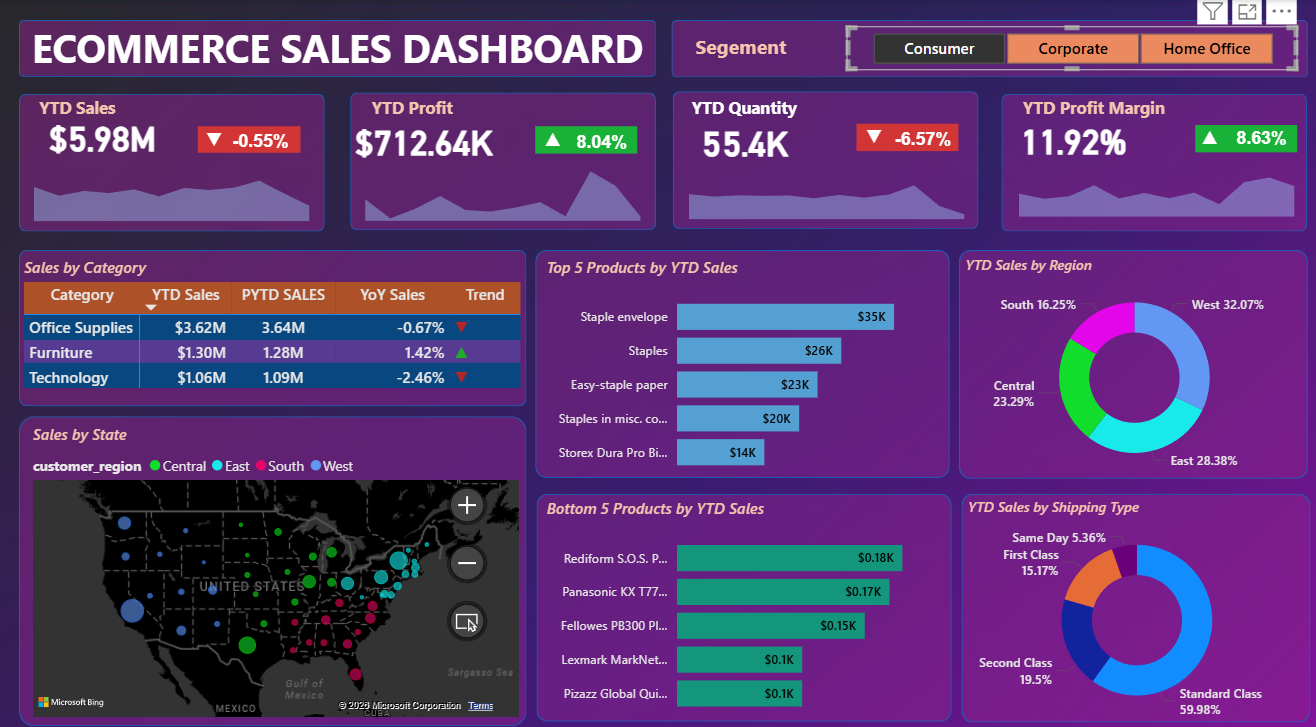

What the dashboard file says about the page in this screenshot:
{"tool":"powerbi","page":{"name":"Page 1","canvas":[1280,720],"ordinal":0},"visuals":[{"type":"shape","box":[24.7,19.2,614.8,54.9],"z":0},{"type":"textbox","box":[24.7,15.1,614.8,64.5],"z":1000},{"type":"shape","box":[24.7,90.6,295,133],"z":2000},{"type":"card","fields":{"Values":["ecommerce_data.YTD SALES"]},"box":[35.7,105.7,137.2,52.1],"z":3000},{"type":"areaChart","fields":{"Category":["Calendar.Month"],"Y":["Sum(ecommerce_data.sales_per_order)"]},"box":[24.7,156.4,295,61.7],"z":4000},{"type":"shape","box":[196.6,121.9,98.9,25.3],"z":5000},{"type":"card","fields":{"Values":["ecommerce_data.YoY Sales"]},"box":[223.7,120.8,68.6,32.9],"z":6000},{"type":"card","fields":{"Values":["ecommerce_data.Sales Icon"]},"box":[194.9,122.1,34.3,26.1],"z":7000},{"type":"textbox","box":[38.4,87.8,105.7,38.4],"z":8000},{"type":"shape","box":[344.4,89.2,295,133.1],"z":9000},{"type":"shape","box":[522.8,122.1,98.8,26.1],"z":10000},{"type":"card","fields":{"Values":["ecommerce_data.YTD PROFIT"]},"box":[331.8,109.8,166.5,51.9],"z":11000},{"type":"areaChart","fields":{"Category":["Calendar.Month"],"Y":["Sum(ecommerce_data.profit_per_order)"]},"box":[344.4,148.2,295,70],"z":12000},{"type":"card","fields":{"Values":["ecommerce_data.YoY Profit"]},"box":[553,122.1,68.6,32.9],"z":13000},{"type":"card","fields":{"Values":["ecommerce_data.Profit Icon"]},"box":[522.8,122.1,34.3,26.1],"z":14000},{"type":"shape","box":[654.5,87.8,295,133.1],"z":15000},{"type":"textbox","box":[359.5,87.8,105.7,38.4],"z":16000},{"type":"shape","box":[832.9,119.4,98.8,26.1],"z":17000},{"type":"card","fields":{"Values":["ecommerce_data.YTD Qty"]},"box":[657.3,111.1,134.5,52.1],"z":18000},{"type":"areaChart","fields":{"Category":["Calendar.Month"],"Y":["Sum(ecommerce_data.order_quantity)"]},"box":[655.9,150.9,295,65.9],"z":19000},{"type":"card","fields":{"Values":["ecommerce_data.YoY Qty"]},"box":[863.1,119.4,68.6,32.9],"z":20000},{"type":"card","fields":{"Values":["ecommerce_data.Qty Icon"]},"box":[832.9,119.4,34.3,28.8],"z":21000},{"type":"textbox","box":[668.3,87.8,155.1,38.4],"z":22000},{"type":"shape","box":[972.9,90.6,295,133.1],"z":23000},{"type":"shape","box":[1159.5,120.8,98.8,26.1],"z":24000},{"type":"card","fields":{"Values":["ecommerce_data.YTD Profit Margin"]},"box":[974.3,108.4,134.5,52.1],"z":25000},{"type":"areaChart","fields":{"Category":["Calendar.Month"],"Y":["ecommerce_data.Profit Margin"]},"box":[974.3,148.2,295,65.9],"z":26000},{"type":"card","fields":{"Values":["ecommerce_data.YoY Profit Margin"]},"box":[1189.8,118.3,68.2,33.4],"z":27000},{"type":"card","fields":{"Values":["ecommerce_data.Profit Margin Icon"]},"box":[1156.4,119.7,33.4,29.2],"z":28000},{"type":"textbox","box":[988,87.8,155.1,38.4],"z":29000},{"type":"shape","box":[24.1,241.3,489.8,150.8],"z":30000},{"type":"pivotTable","title":"Sales by Category","fields":{"Rows":["ecommerce_data.category_name"],"Values":["ecommerce_data.YTD Sales","ecommerce_data.PYTD SALES","ecommerce_data.YoY Sales","ecommerce_data.Sales Icon"]},"box":[24.1,247.3,498.3,150.8],"z":31000},{"type":"shape","box":[24.7,402.1,489.9,299.1],"z":32000},{"type":"map","title":"Sales by State","fields":{"Y":["us_state_long_lat_codes.latitude"],"X":["us_state_long_lat_codes.longitude"],"Size":["ecommerce_data.YTD Sales"],"Series":["ecommerce_data.customer_region"]},"box":[32.6,409,479,288.3],"z":33000},{"type":"shape","box":[522.8,241.5,400,220],"z":34000},{"type":"shape","box":[524.2,476.2,400.7,220],"z":35000},{"type":"barChart","title":"Top 5 Products by YTD Sales","fields":{"Category":["ecommerce_data.product_name"],"Y":["ecommerce_data.YTD Sales"]},"box":[528.3,247,393.8,220.9],"z":36000},{"type":"barChart","title":"Bottom 5 Products by YTD Sales","fields":{"Category":["ecommerce_data.product_name"],"Y":["ecommerce_data.YTD Sales"]},"box":[528.3,480.3,393.8,220.9],"z":37000},{"type":"shape","box":[931.4,241.3,336.6,220.8],"z":38000},{"type":"shape","box":[933.8,476.5,336.6,220.8],"z":39000},{"type":"donutChart","title":"YTD Sales by Region","fields":{"Category":["ecommerce_data.customer_region"],"Y":["ecommerce_data.YTD Sales"]},"box":[932.6,246.1,336.6,219.6],"z":40000},{"type":"donutChart","title":"YTD Sales by Shipping Type","fields":{"Y":["ecommerce_data.YTD Sales"],"Category":["ecommerce_data.shipping_type"]},"box":[935,480.2,336.6,219.6],"z":41000},{"type":"shape","box":[653.9,19.3,614.1,55.5],"z":42000},{"type":"slicer","fields":{"Values":["ecommerce_data.customer_segment"]},"box":[822.8,25.3,435.5,42.2],"z":43000},{"type":"textbox","box":[672,27.7,106.2,38.6],"z":44000}]}

Visuals, with their boxes in screenshot pixels (x1, y1, x2, y2), scaled from the page's 1280x720 canvas onto the 1316x727 screenshot:
shape: x1=25, y1=19, x2=657, y2=75
textbox: x1=25, y1=15, x2=657, y2=80
shape: x1=25, y1=91, x2=329, y2=226
card - ecommerce_data.YTD SALES: x1=37, y1=107, x2=178, y2=159
areaChart - Calendar.Month x Sum(ecommerce_data.sales_per_order): x1=25, y1=158, x2=329, y2=220
shape: x1=202, y1=123, x2=304, y2=149
card - ecommerce_data.YoY Sales: x1=230, y1=122, x2=301, y2=155
card - ecommerce_data.Sales Icon: x1=200, y1=123, x2=236, y2=150
textbox: x1=39, y1=89, x2=148, y2=127
shape: x1=354, y1=90, x2=657, y2=224
shape: x1=538, y1=123, x2=639, y2=150
card - ecommerce_data.YTD PROFIT: x1=341, y1=111, x2=512, y2=163
areaChart - Calendar.Month x Sum(ecommerce_data.profit_per_order): x1=354, y1=150, x2=657, y2=220
card - ecommerce_data.YoY Profit: x1=569, y1=123, x2=639, y2=157
card - ecommerce_data.Profit Icon: x1=538, y1=123, x2=573, y2=150
shape: x1=673, y1=89, x2=976, y2=223
textbox: x1=370, y1=89, x2=478, y2=127
shape: x1=856, y1=121, x2=958, y2=147
card - ecommerce_data.YTD Qty: x1=676, y1=112, x2=814, y2=165
areaChart - Calendar.Month x Sum(ecommerce_data.order_quantity): x1=674, y1=152, x2=978, y2=219
card - ecommerce_data.YoY Qty: x1=887, y1=121, x2=958, y2=154
card - ecommerce_data.Qty Icon: x1=856, y1=121, x2=892, y2=150
textbox: x1=687, y1=89, x2=847, y2=127
shape: x1=1000, y1=91, x2=1304, y2=226
shape: x1=1192, y1=122, x2=1294, y2=148
card - ecommerce_data.YTD Profit Margin: x1=1002, y1=109, x2=1140, y2=162
areaChart - Calendar.Month x ecommerce_data.Profit Margin: x1=1002, y1=150, x2=1305, y2=216
card - ecommerce_data.YoY Profit Margin: x1=1223, y1=119, x2=1293, y2=153
card - ecommerce_data.Profit Margin Icon: x1=1189, y1=121, x2=1223, y2=150
textbox: x1=1016, y1=89, x2=1175, y2=127
shape: x1=25, y1=244, x2=528, y2=396
"Sales by Category" pivotTable: x1=25, y1=250, x2=537, y2=402
shape: x1=25, y1=406, x2=529, y2=708
"Sales by State" map: x1=34, y1=413, x2=526, y2=704
shape: x1=538, y1=244, x2=949, y2=466
shape: x1=539, y1=481, x2=951, y2=703
"Top 5 Products by YTD Sales" barChart: x1=543, y1=249, x2=948, y2=472
"Bottom 5 Products by YTD Sales" barChart: x1=543, y1=485, x2=948, y2=708
shape: x1=958, y1=244, x2=1304, y2=467
shape: x1=960, y1=481, x2=1306, y2=704
"YTD Sales by Region" donutChart: x1=959, y1=248, x2=1305, y2=470
"YTD Sales by Shipping Type" donutChart: x1=961, y1=485, x2=1307, y2=707
shape: x1=672, y1=19, x2=1304, y2=76
slicer - ecommerce_data.customer_segment: x1=846, y1=26, x2=1294, y2=68
textbox: x1=691, y1=28, x2=800, y2=67
